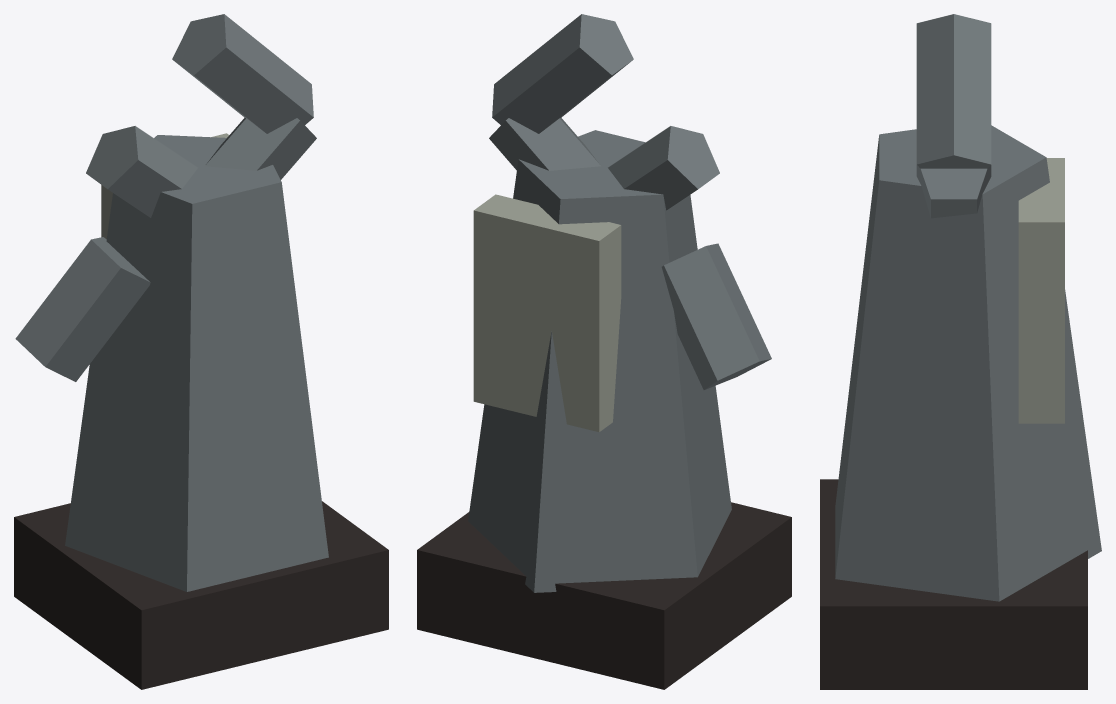
File: OldStatue_B.fbx
3 renders of one model, left to right at view 1: azimuth 30°, elevation 25°; view 2: azimuth 150°, elevation 25°; view 3: azimuth 270°, elevation 25°, orthographic. The views are drawn at different scales.
Parts seen in each view (by area): view 1: OldStatue_B; view 2: OldStatue_B; view 3: OldStatue_B.
Boxes of the visible parts, x1,y1,x2,y2 form: OldStatue_B: (14, 14, 388, 689); OldStatue_B: (417, 14, 791, 689); OldStatue_B: (820, 14, 1101, 689).
Size of the model in its own units: 0.9677 by 1.86 by 0.7633.
1 material, 1 textured.
